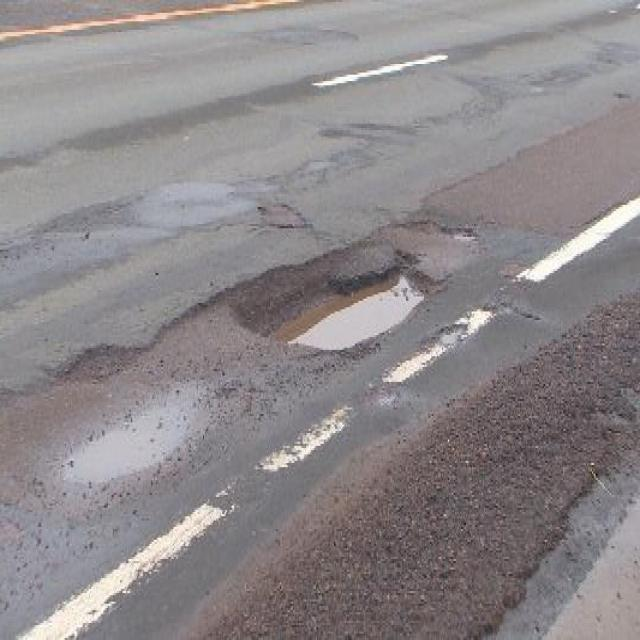Pothole: (233, 242, 443, 360), (61, 341, 140, 392), (443, 221, 481, 245)
